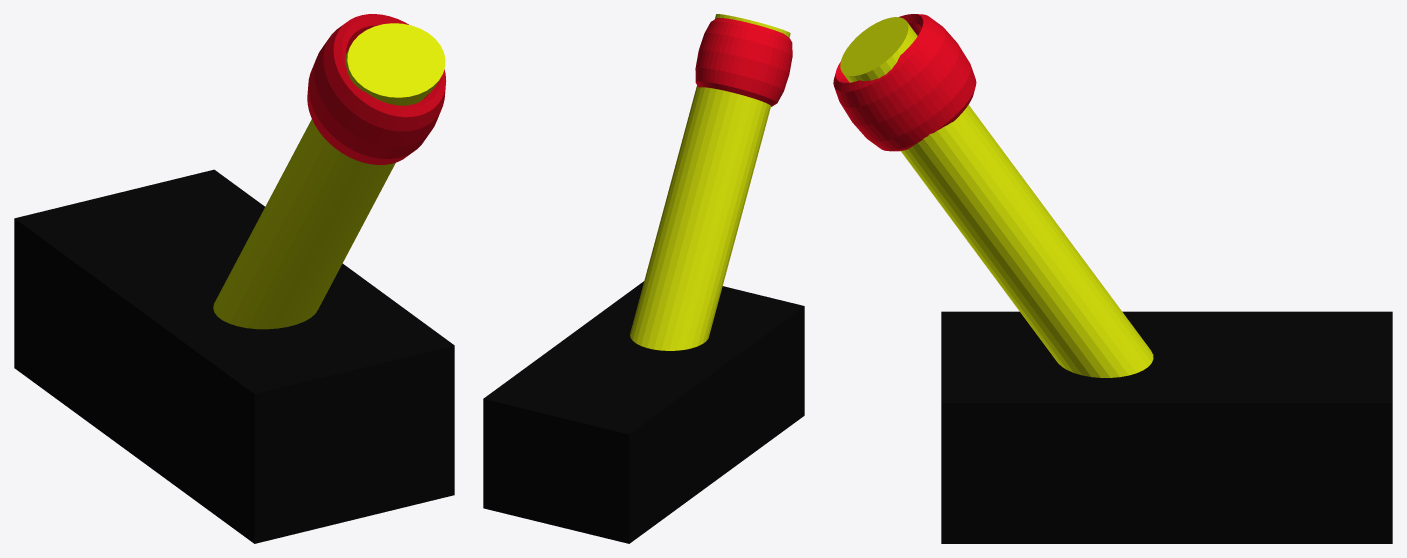
File: Rod.fbx
3 renders of one model, left to right at view 1: azimuth 30°, elevation 25°; view 2: azimuth 150°, elevation 25°; view 3: azimuth 270°, elevation 25°, orthographic. The views are drawn at different scales.
Parts seen in each view (by area): view 1: Cube, RageView, Тор.001; view 2: Cube, RageView, Тор.001; view 3: Cube, RageView, Тор.001.
Boxes of the visible parts, <box> form: Cube: <box>14,169,454,543</box>; RageView: <box>213,23,445,329</box>; Тор.001: <box>307,14,446,164</box>; Cube: <box>483,281,804,543</box>; RageView: <box>630,14,790,350</box>; Тор.001: <box>695,18,792,106</box>; Cube: <box>941,311,1392,543</box>; RageView: <box>840,17,1153,377</box>; Тор.001: <box>833,14,976,151</box>.
Size of the model in its own units: 33.33 by 81.04 by 85.92.
